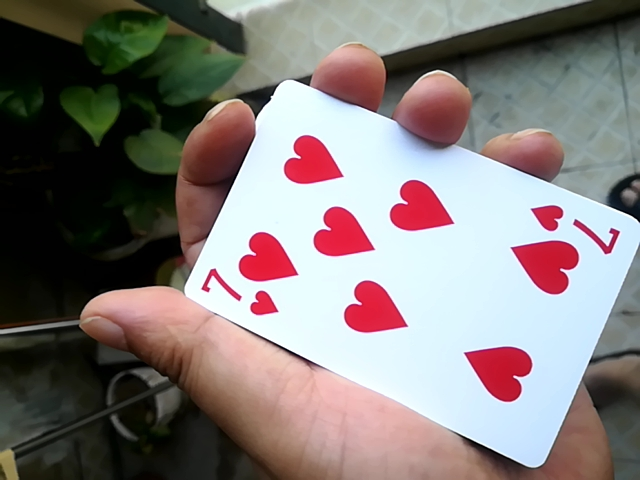hx 7: (177, 68, 640, 466)
